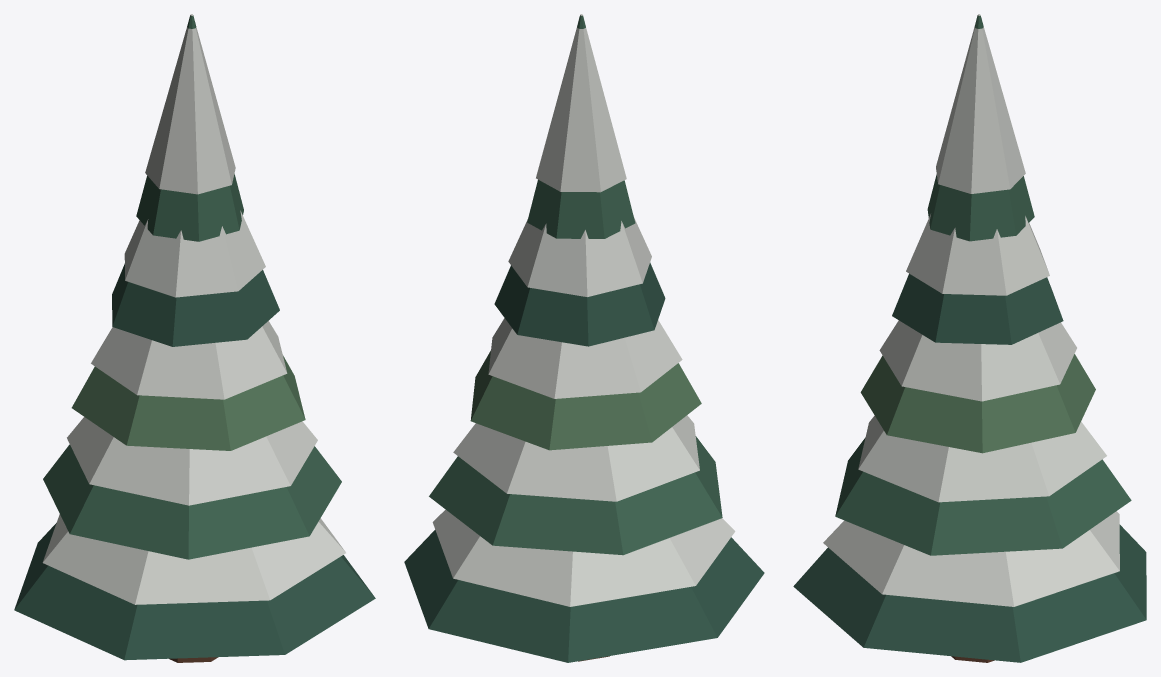
3 views of the same model, side by side, from view 1: azimuth 30°, elevation 25°; view 2: azimuth 150°, elevation 25°; view 3: azimuth 270°, elevation 25° (orthographic).
Parts seen in each view (by area): view 1: T06_紧凑雪杉; view 2: T06_紧凑雪杉; view 3: T06_紧凑雪杉.
Part boxes in pixels (x1,y1,x2,y2): T06_紧凑雪杉: [14, 14, 375, 662]; T06_紧凑雪杉: [404, 14, 764, 662]; T06_紧凑雪杉: [793, 14, 1146, 662].
Size of the model in its own units: 1.13 by 2.18 by 1.1.
